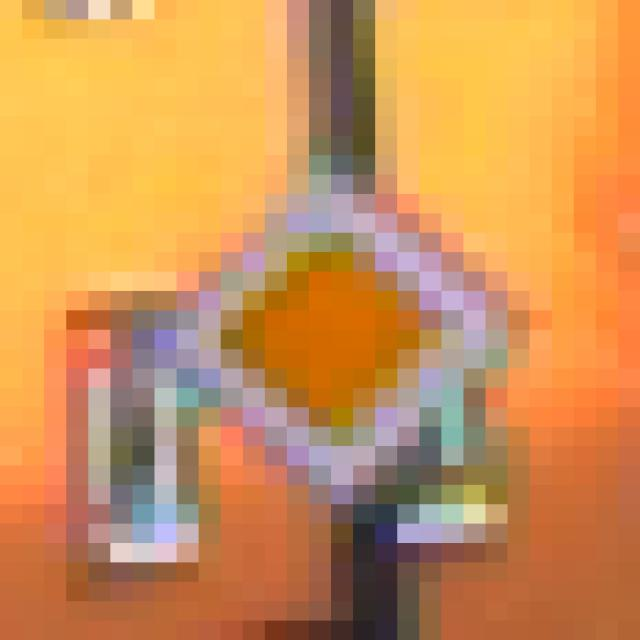Main Road: (134, 117, 531, 544)
